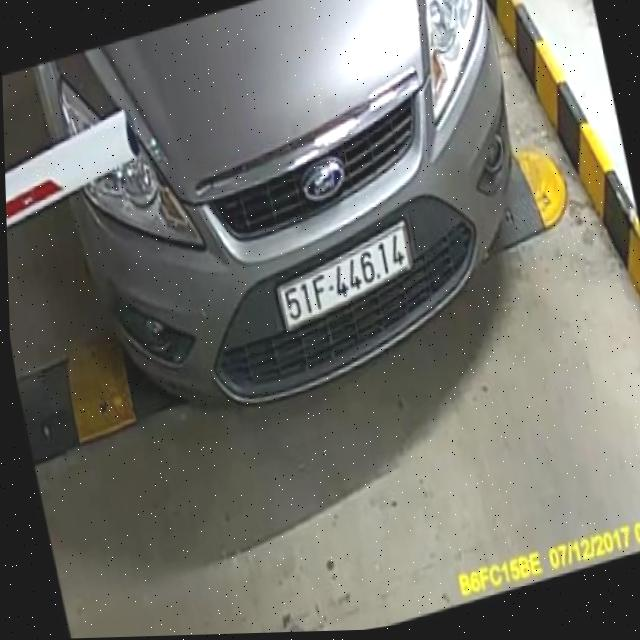car: (17, 0, 554, 444)
plate: (267, 220, 422, 333)
